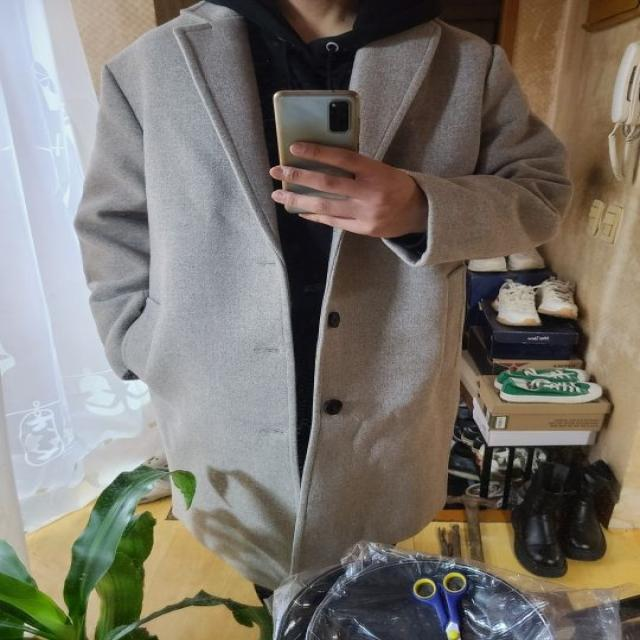coat: (75, 0, 571, 592)
